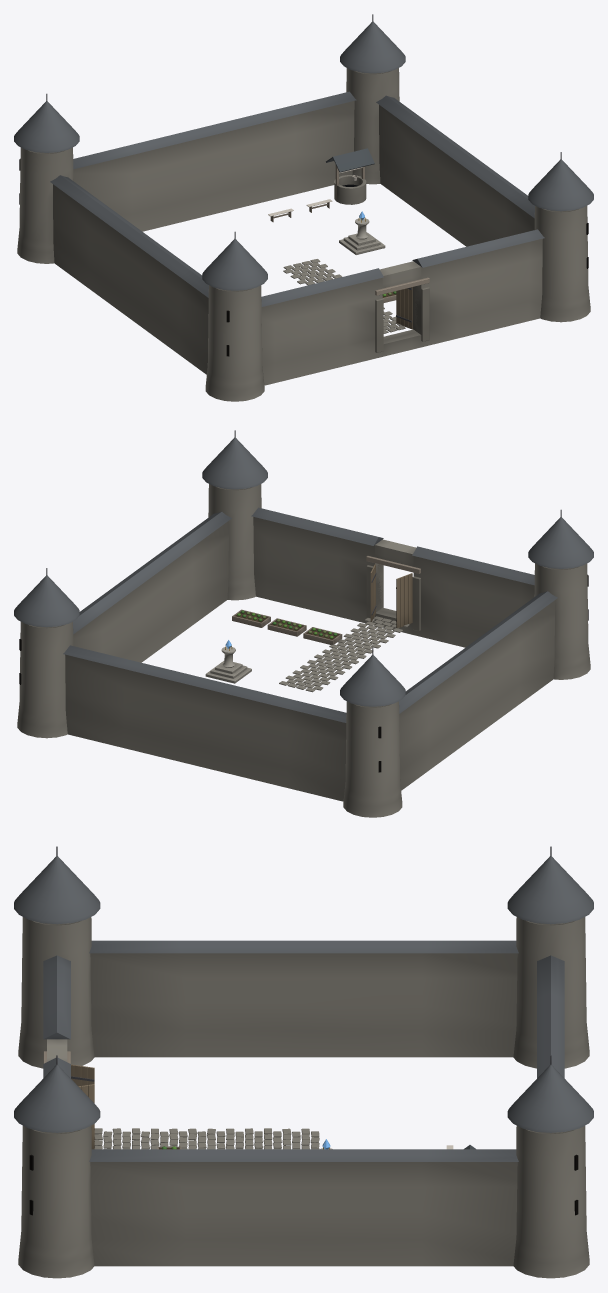
Rendered from monastery.glb.
3 views of the same model, one above another, from view 1: azimuth 30°, elevation 25°; view 2: azimuth 150°, elevation 25°; view 3: azimuth 270°, elevation 25° (orthographic). The views are drawn at different scales.
Parts seen in each view (by area): view 1: monastery; view 2: monastery; view 3: monastery.
Part boxes in pixels (x1,y1,x2,y2): monastery: (14, 14, 593, 401); monastery: (14, 430, 593, 817); monastery: (14, 846, 593, 1278).
Size of the model in its own units: 25.9 by 10.15 by 25.84.
